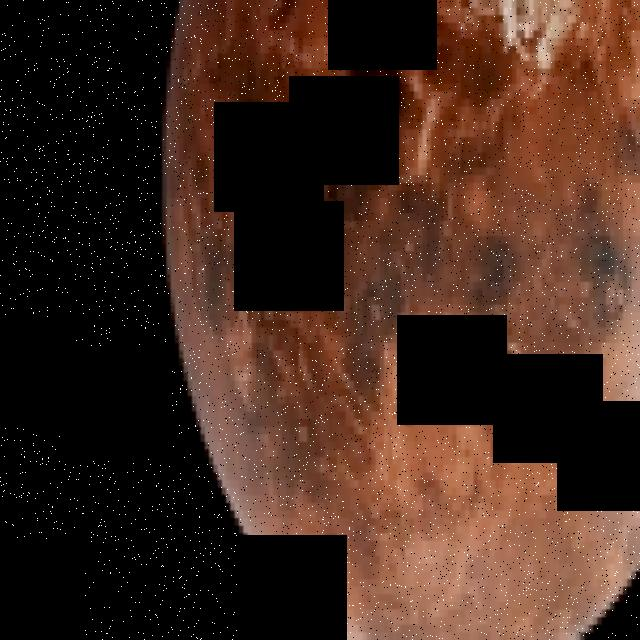Venus: (158, 0, 640, 640)
